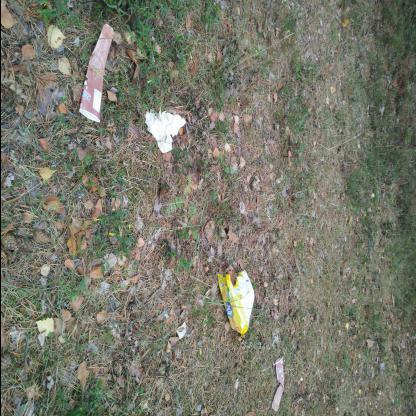kagit: (262, 144, 306, 186)
karton: (294, 77, 392, 113), (5, 270, 60, 284)
plastik: (78, 217, 146, 254)
